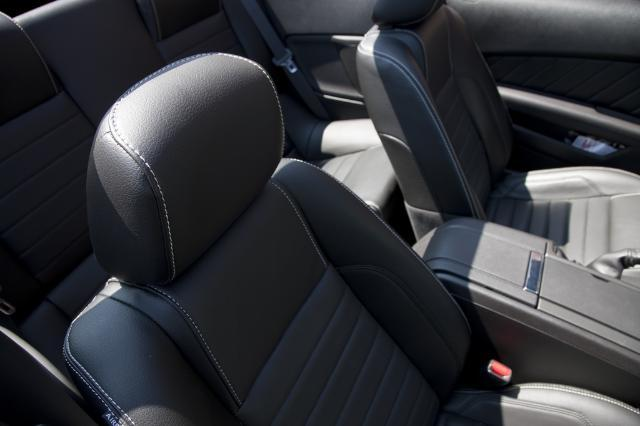Seatbelt: (240, 0, 334, 120)
